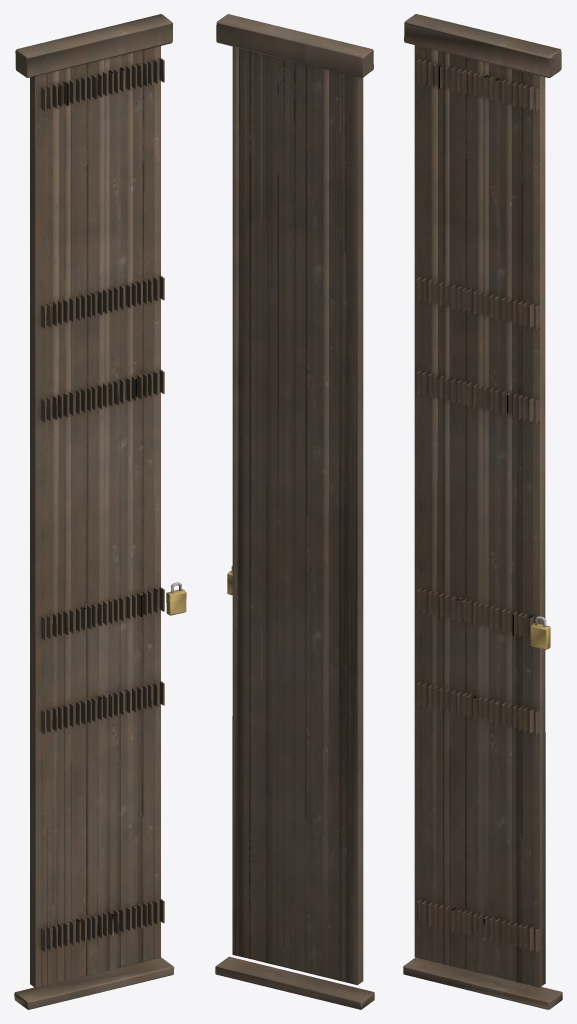
File: folding_gate_folded.glb
3 views of the same model, side by side, from view 1: azimuth 30°, elevation 25°; view 2: azimuth 150°, elevation 25°; view 3: azimuth 330°, elevation 25° (orthographic).
Visible parts, largest first — view 1: folding_gate_folded; view 2: folding_gate_folded; view 3: folding_gate_folded.
Part boxes in pixels (box(x1,y1,x2,y2)): folding_gate_folded: box(14, 14, 186, 1009); folding_gate_folded: box(215, 14, 374, 1009); folding_gate_folded: box(403, 14, 562, 1009).
Bounding box in the file's own units: 0.4348 × 2.6 × 0.106.
Materials: 1 (1 with a texture image).
